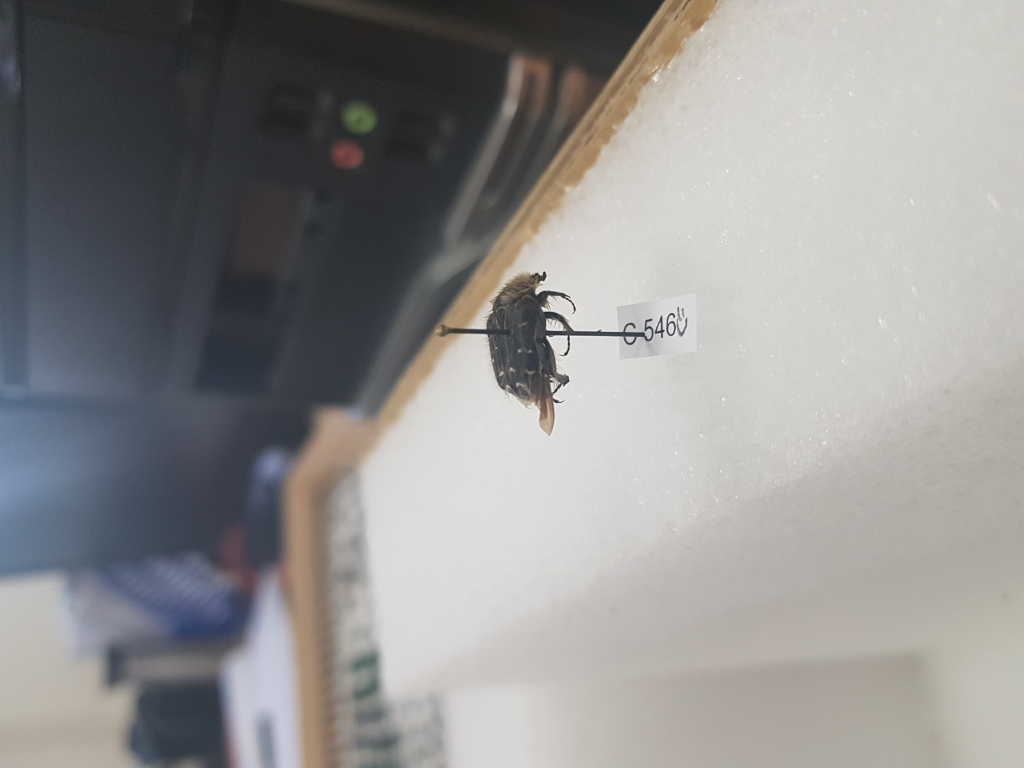Tropinota_senicula: (477, 267, 576, 437)
